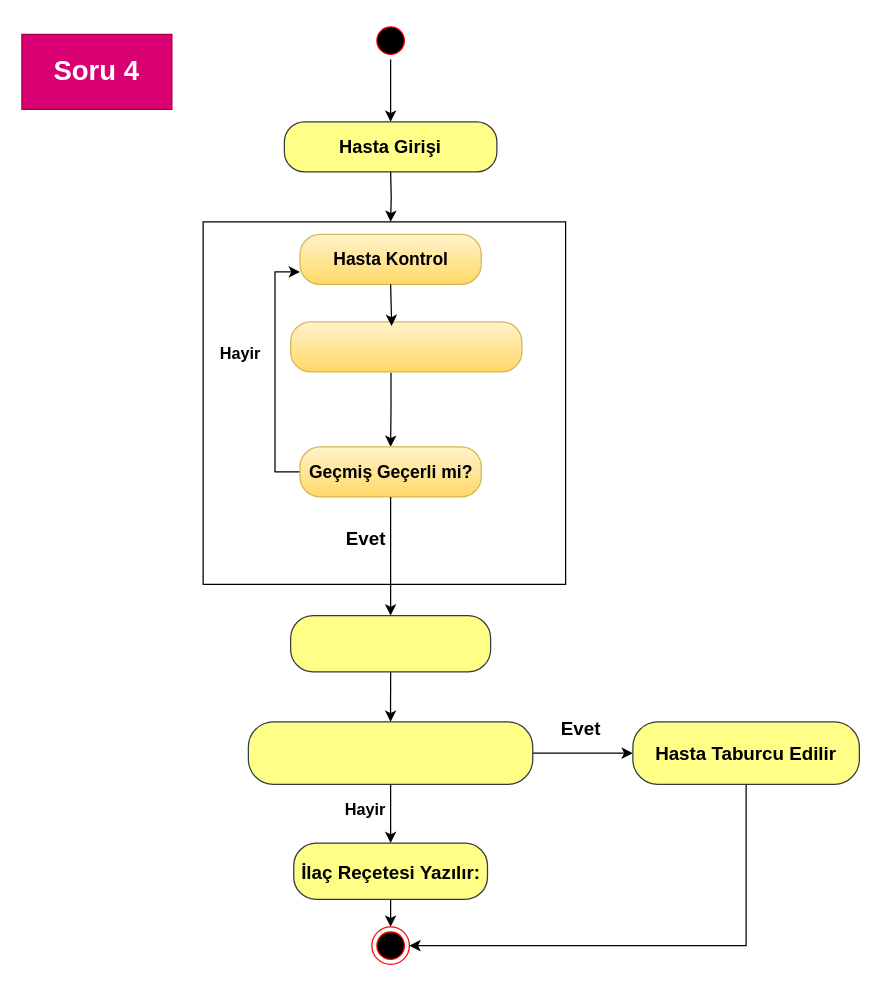
Some shapes in this 881 by 986 pixel diagram are drawn without their labels. The centre of each missing label's shape, as x and y in pixels:
Doktora Danış: (390,643)
Konsültasyon Tamamlandı mı?: (390,752)
Tıbbi Geçmiş Doğrulaması: (405,346)
